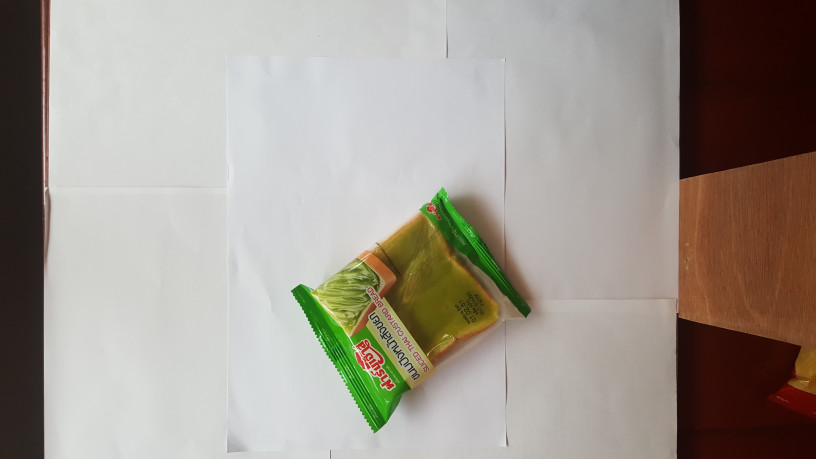farmhouse-bread-pandan: (277, 186, 532, 438)
